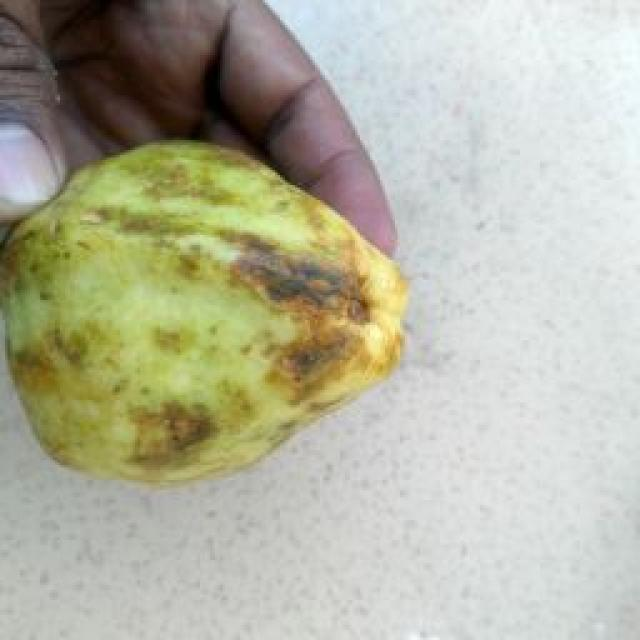Bad_Guava: (4, 142, 406, 481)
